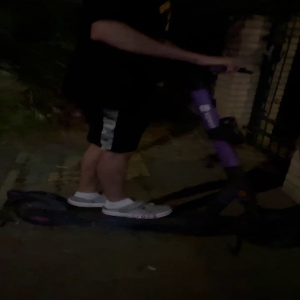human on a scooter: (6, 1, 283, 249)
